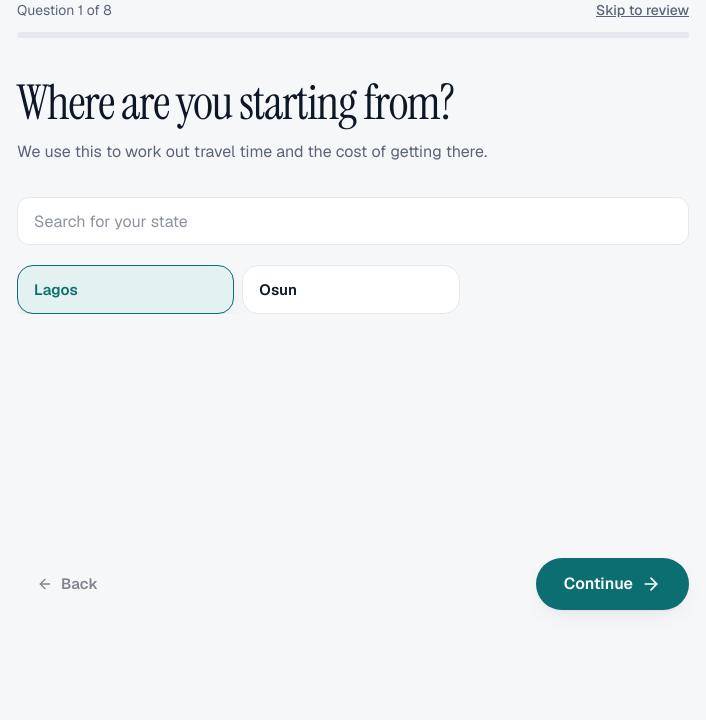
Test case: QuizPage › says what failed and lets the user retry
Check: the heading "Where are you starting from?" is shown, box 17,71 -> 454,134
Click the button "Skip to review": coordinates (642, 10) 596,0 -> 689,20
(page scrolled)
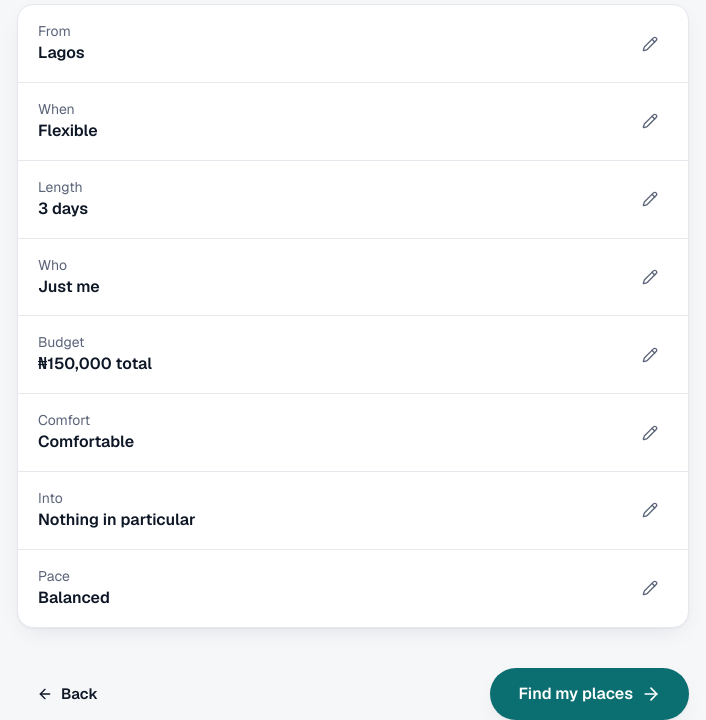
Click the button "Find my places": coordinates (590, 694) 490,668 -> 689,719
(page scrolled)
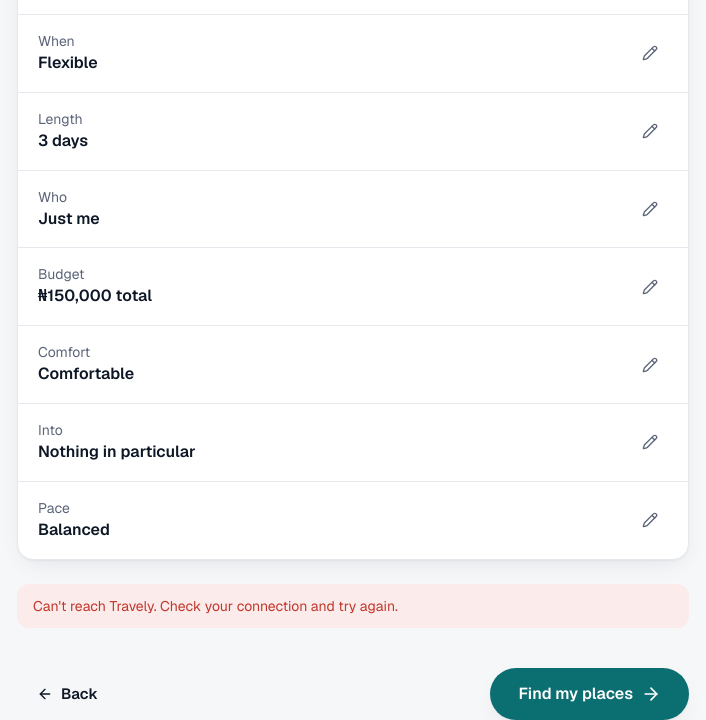
Check: the message shows "Can't reach Travely", box 33,597 -> 398,615
